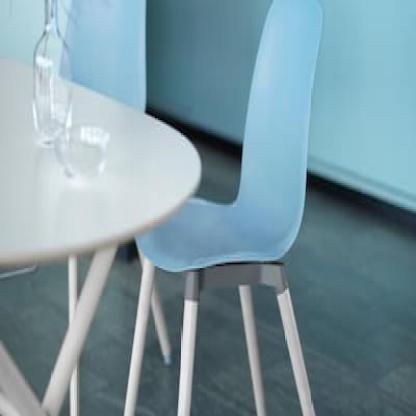chair: (128, 0, 327, 416)
